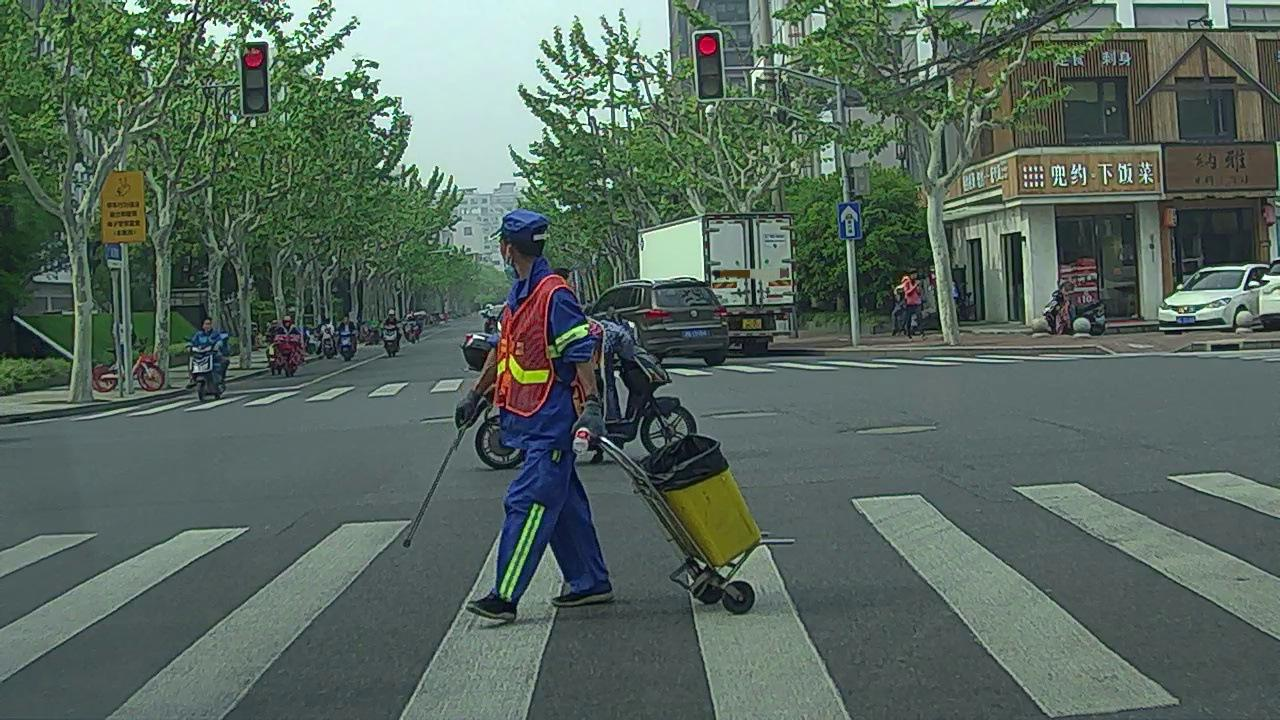traffic_light: (240, 42, 270, 113), (693, 30, 724, 97)
